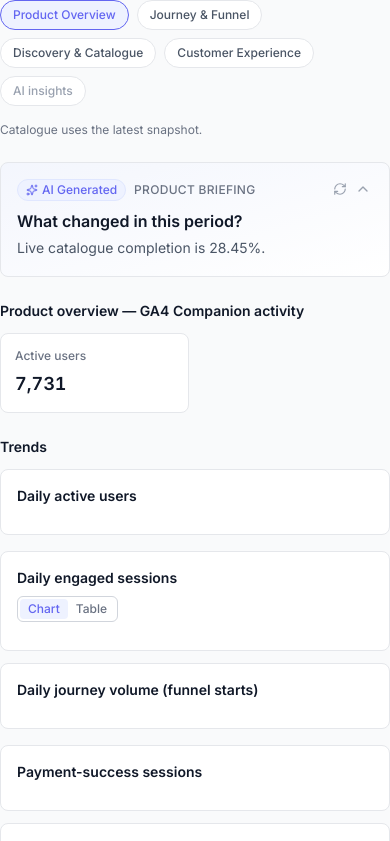
Test case: Companion Product Health live sections › renders Customer Experience using its API data and selected dates
The width and height of the screenshot is (390, 841).
Click the button "Customer Experience". click: coordinates (239, 53)
box: [164,38,314,68]
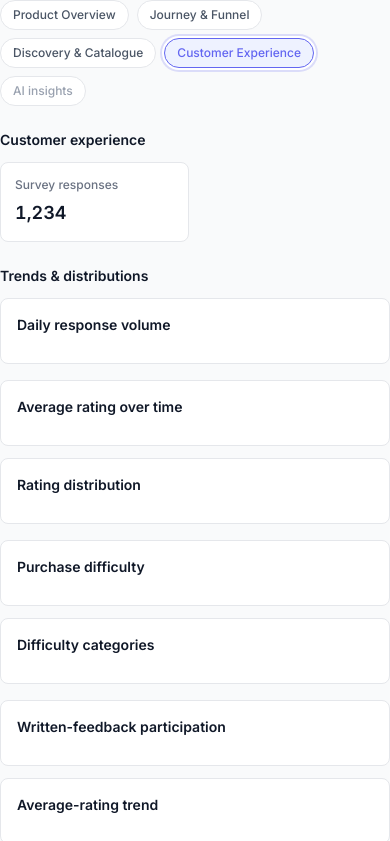
Expected: the button "AI insights" is disabled, [0,76,86,106]
Now the text "1,234" is shown, box [15,199,66,227]
